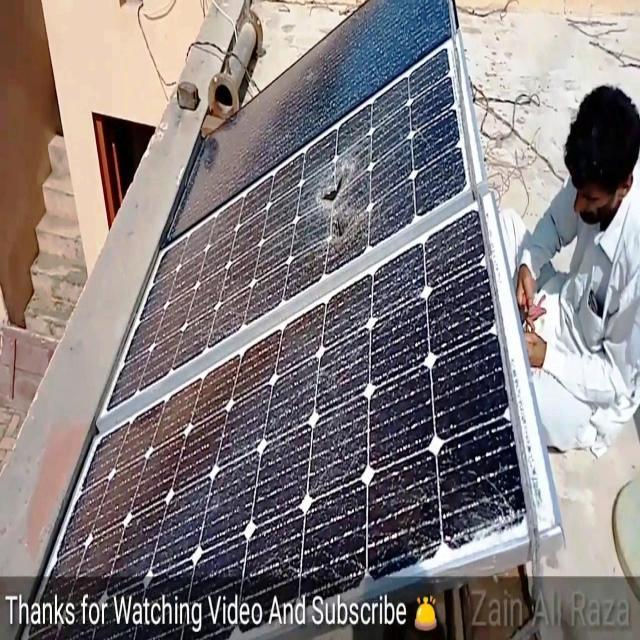faulty: (23, 198, 525, 637), (95, 43, 485, 433)
